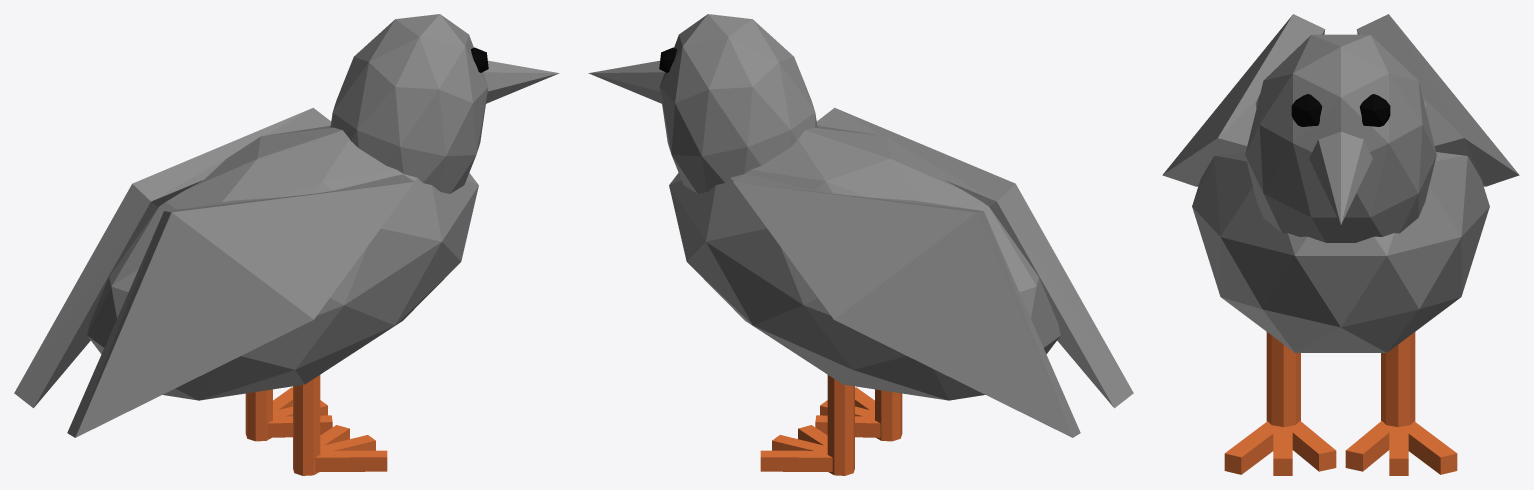
The model's file is pigeon.fbx.
3 renders of one model, left to right at view 1: azimuth 30°, elevation 25°; view 2: azimuth 150°, elevation 25°; view 3: azimuth 270°, elevation 25°, orthographic. The views are drawn at different scales.
Visible parts, largest first — view 1: Cube, Cylinder, Cone; view 2: Cube, Cylinder, Cone; view 3: Cube, Cylinder, Cone, Icosphere.002.
Boxes of the visible parts, <box> form: Cube: <box>14,14,488,437</box>; Cylinder: <box>245,375,387,475</box>; Cone: <box>483,60,559,103</box>; Cube: <box>659,14,1133,437</box>; Cylinder: <box>760,375,902,475</box>; Cone: <box>588,60,664,103</box>; Cube: <box>1162,14,1519,352</box>; Cylinder: <box>1224,332,1457,475</box>; Cone: <box>1309,131,1372,224</box>; Icosphere.002: <box>1291,94,1390,126</box>.
Size of the model in its own units: 485 by 361 by 240.
